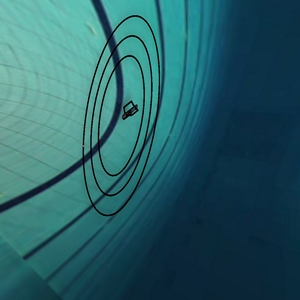circle: (58, 6, 202, 221)
submarine: (119, 98, 139, 126)
